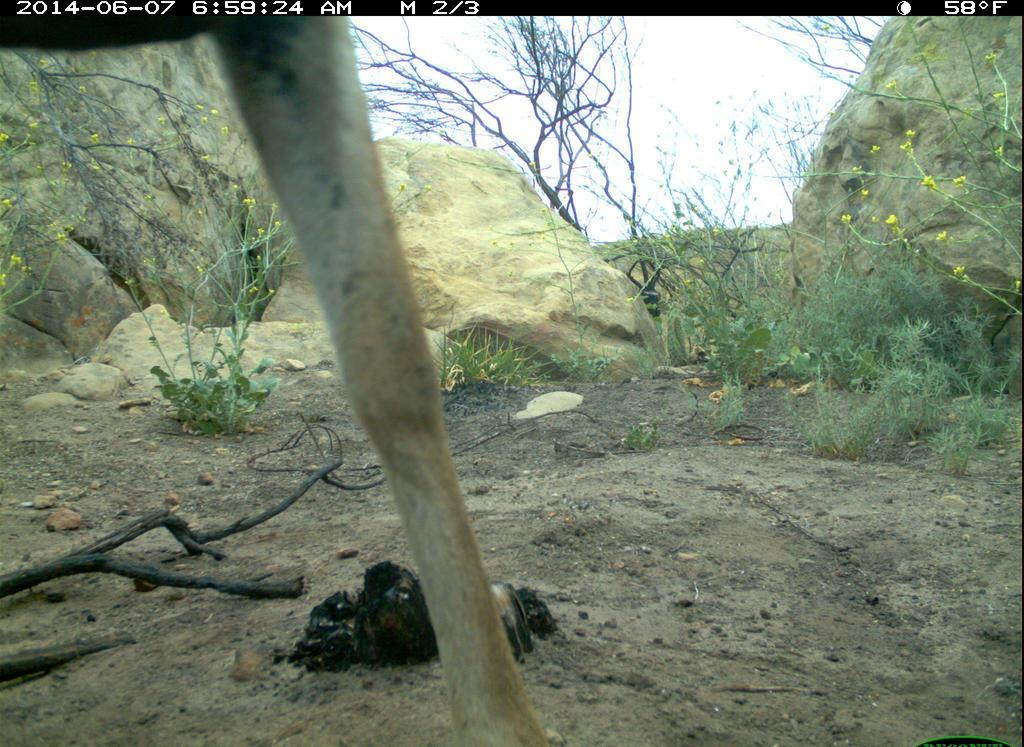deer: (1, 2, 575, 747)
